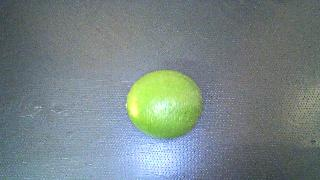EXPORTACION: (126, 70, 202, 139)
